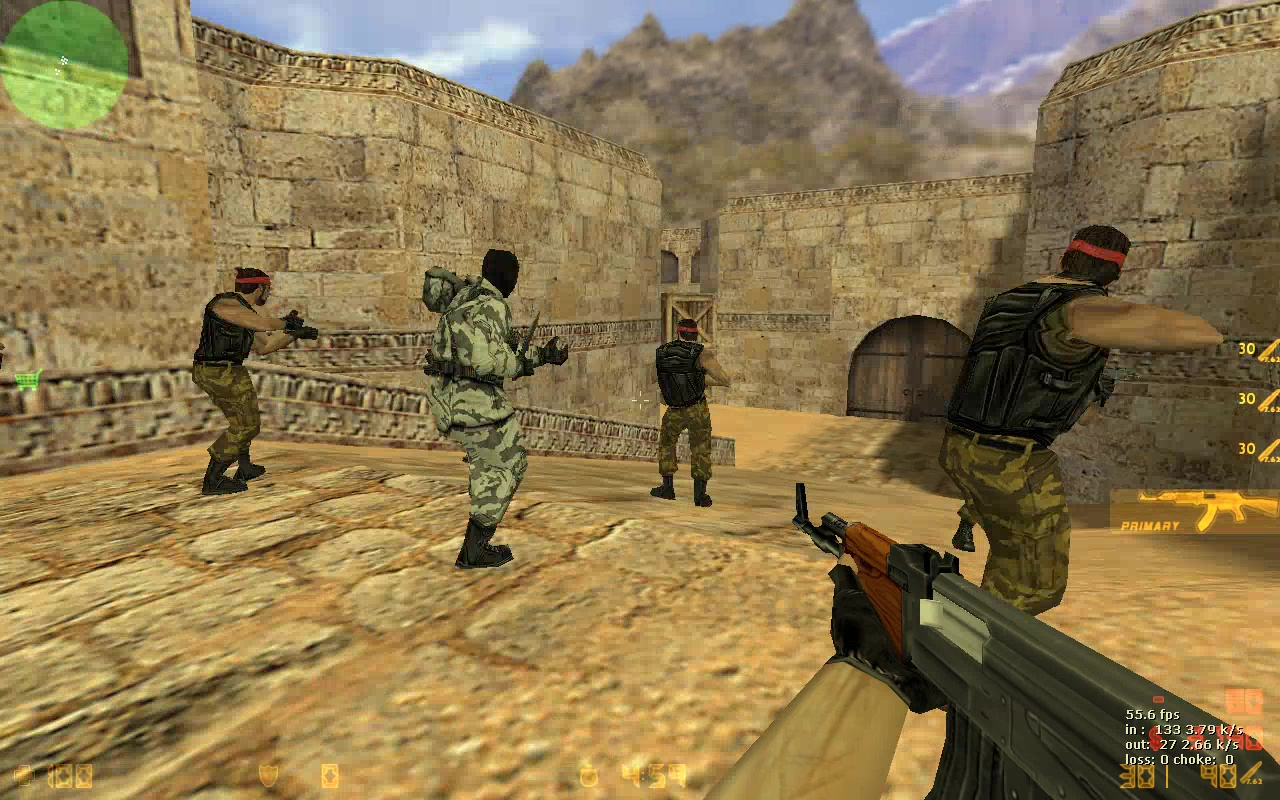terr1: (929, 219, 1223, 663), (181, 264, 320, 495), (645, 318, 728, 508)
terr2: (421, 252, 570, 572)
